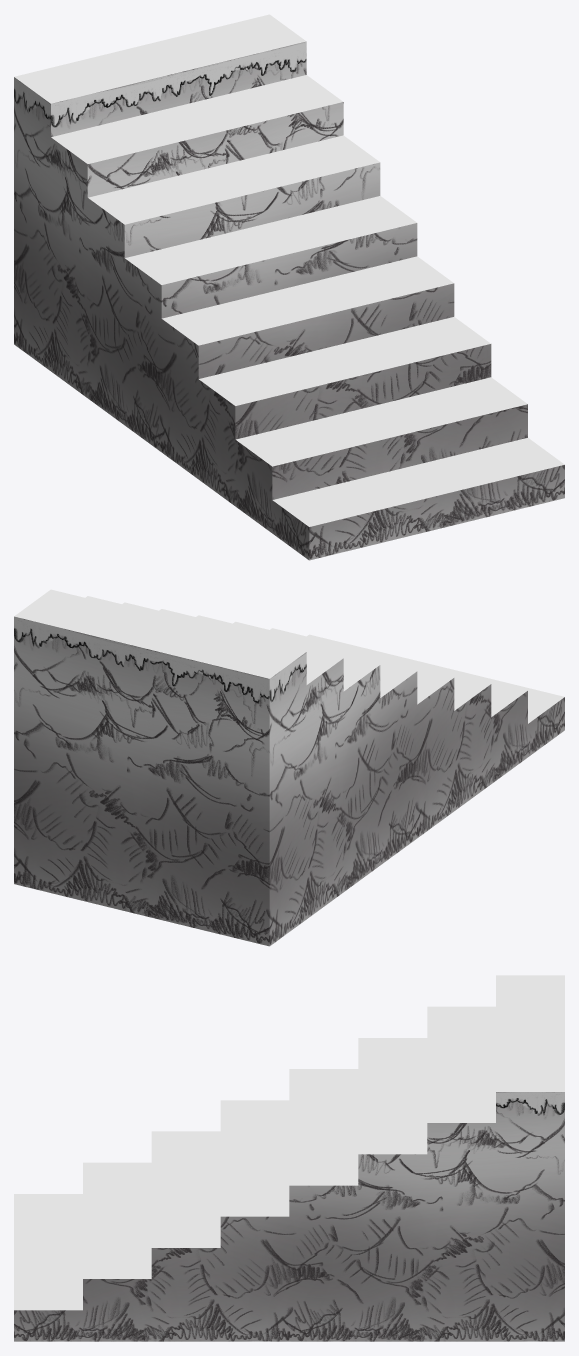
Rendered from Stair8x4x4.fbx.
3 renders of one model, top to bottom at view 1: azimuth 30°, elevation 25°; view 2: azimuth 150°, elevation 25°; view 3: azimuth 270°, elevation 25°, orthographic. The views are drawn at different scales.
Parts seen in each view (by area): view 1: Stair8x4x4; view 2: Stair8x4x4; view 3: Stair8x4x4.
Part boxes in pixels (<box>): Stair8x4x4: <box>14,14,564,560</box>; Stair8x4x4: <box>14,589,564,946</box>; Stair8x4x4: <box>14,975,564,1341</box>.
Size of the model in its own units: 400 by 400 by 800.
